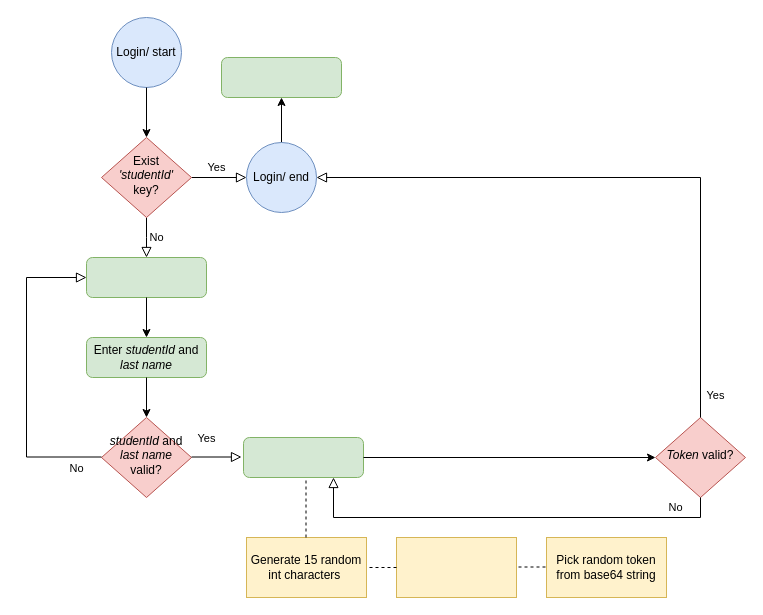
Some shapes in this 763 by 615 pixel diagram are drawn without their labels. Each missing label, with the box of its shape:
2fA: (242, 436, 364, 478)
Generate base64 string based on studentId , last name , random int characters: (396, 536, 516, 598)
Home screen: (220, 56, 342, 98)
Login: (86, 256, 206, 298)
